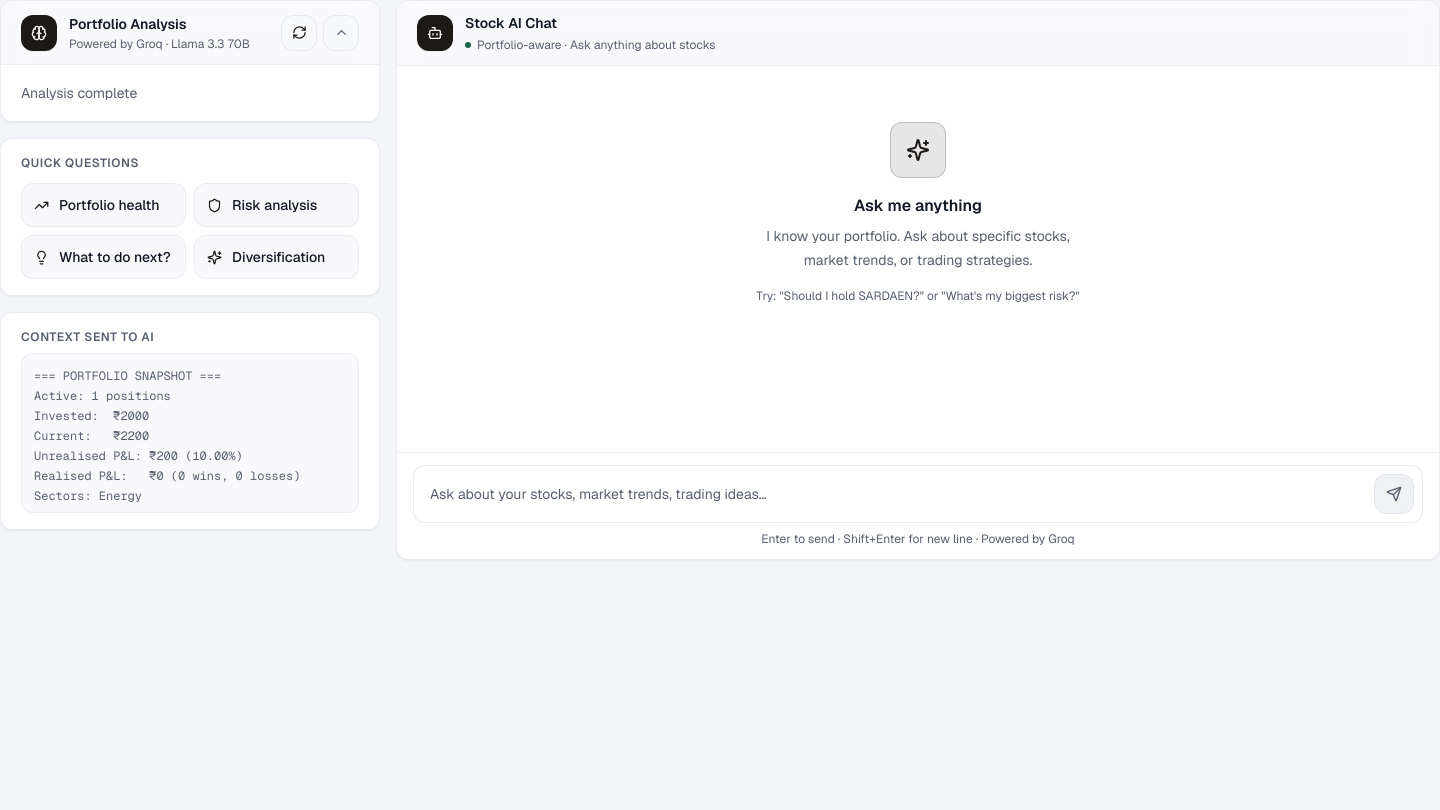
Scenario: AIInsights chat › sends the portfolio context and conversation through the existing AI API
This screenshot has width=1440, height=810.
expect the text "Analysis complete" is shown: met, box [21,84,137,102]
Type "What is my largest risk?" into the text box named "Message Stock AI".
click(894, 494); type("What is my largest risk?")  # box [422,474,1366,514]
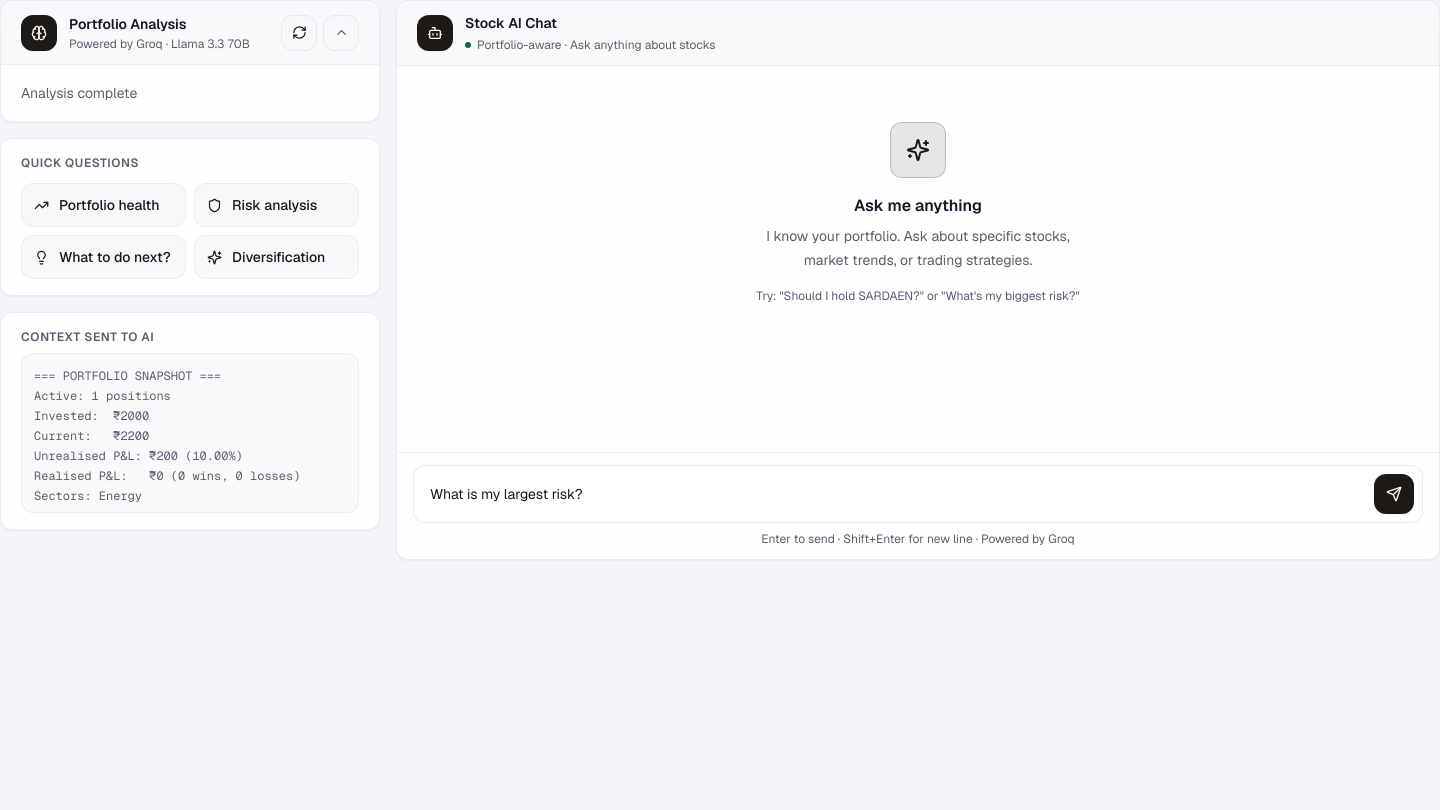
Click the button named "Send message".
click(1394, 494)  # box [1374,474,1414,514]
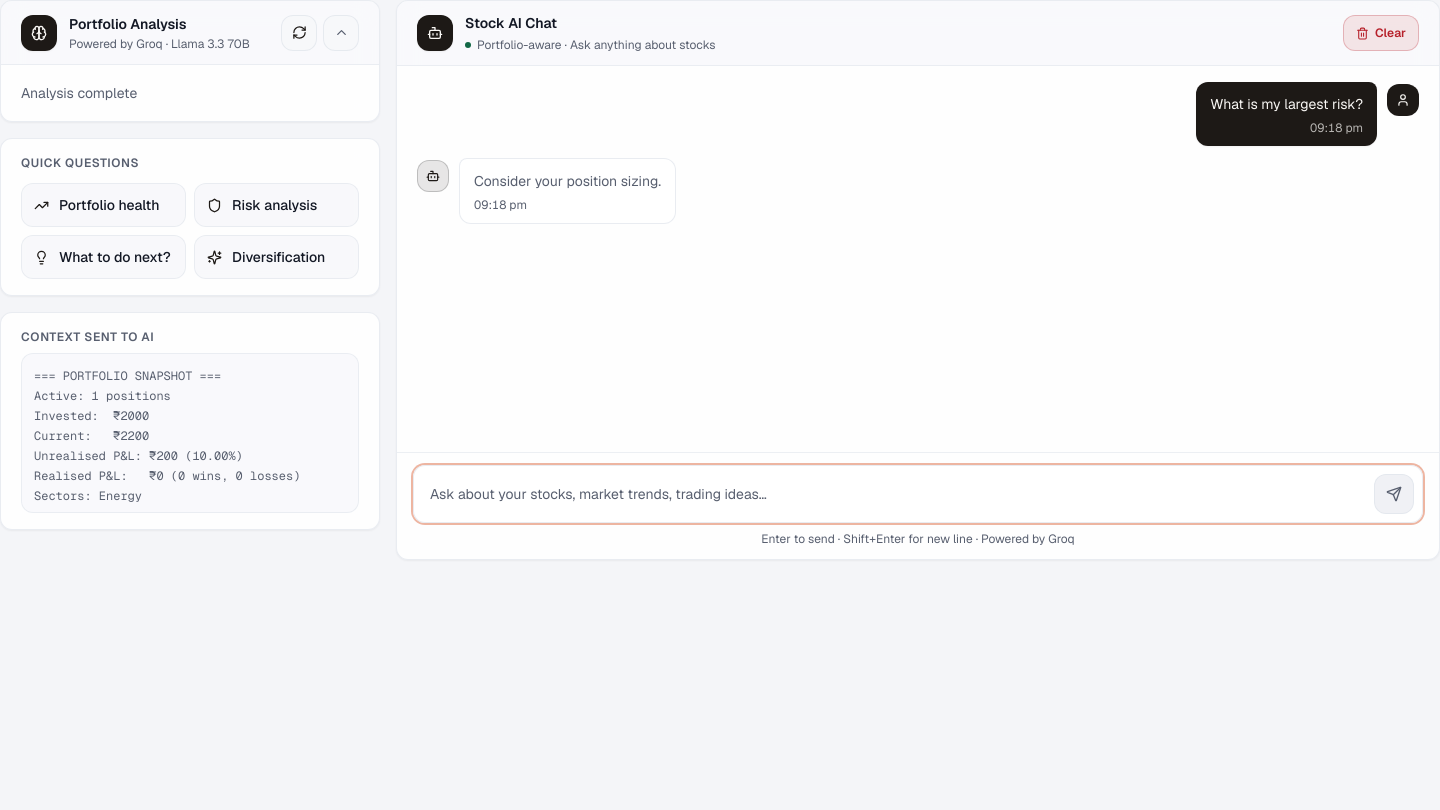
expect the text "Consider your position sizing." is shown: met, box [474,169,661,193]
